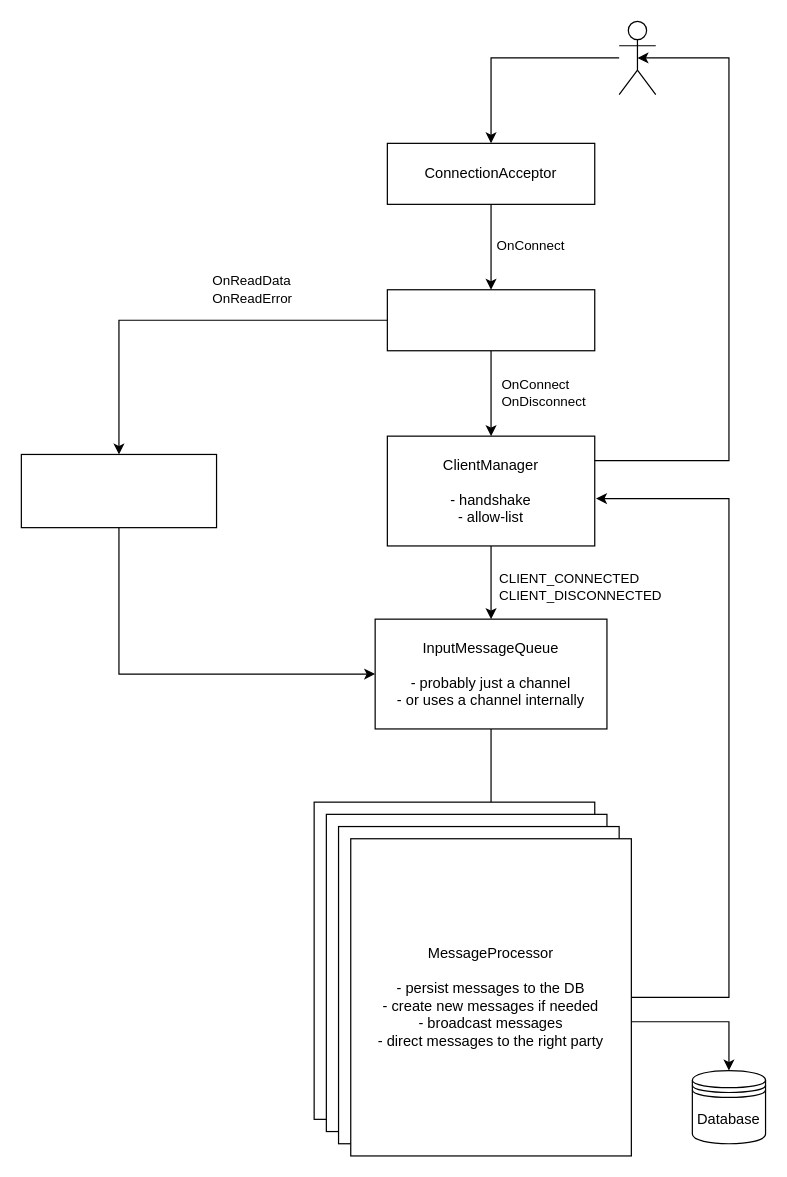
Image size: 787x1177. Some labels were removed from this diagram. Each missing label, with the centre of its shape:
"Clients" goes at (x=637, y=57).
"ConnectionManager" goes at (x=490, y=320).
"MessageParser" goes at (x=118, y=490).
